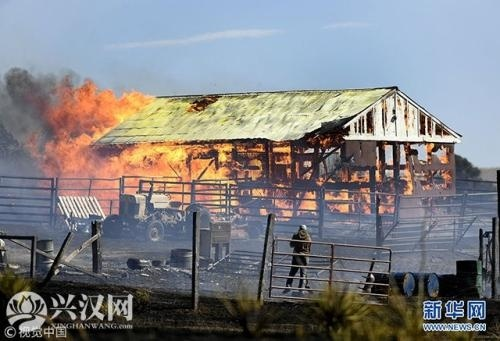fire: (35, 78, 156, 178)
